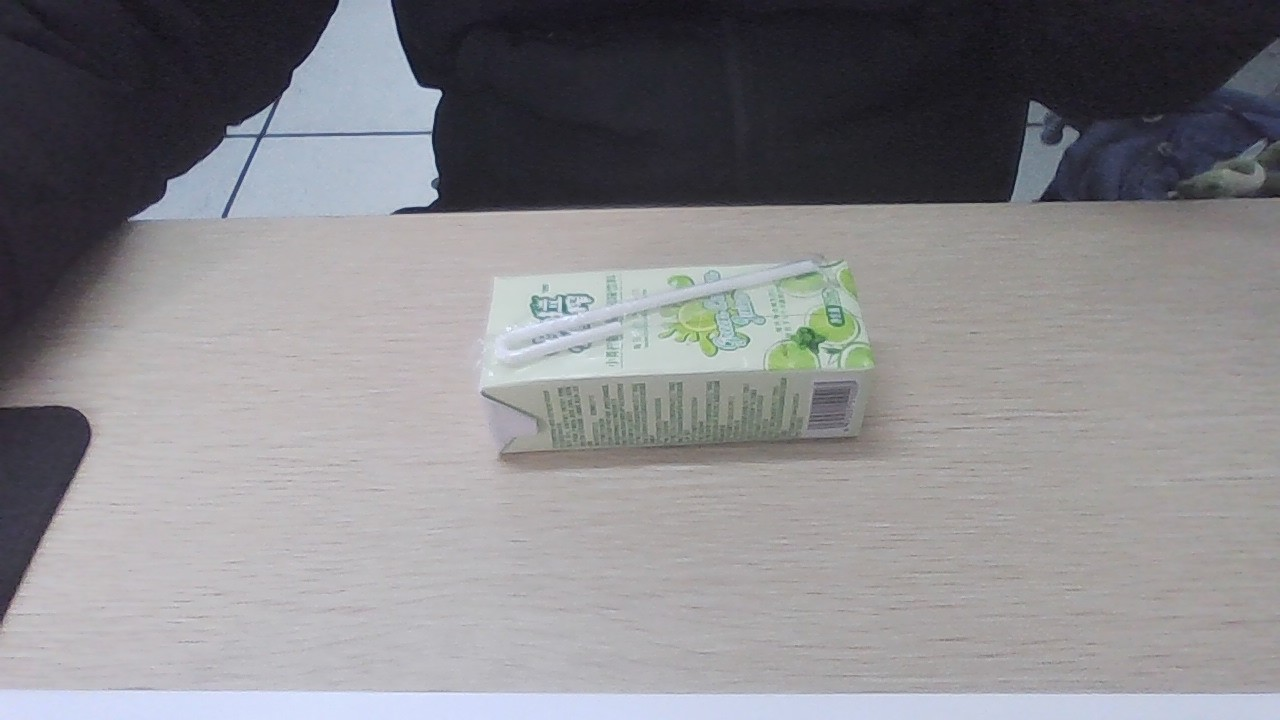CY-drink: (482, 271, 866, 453)
